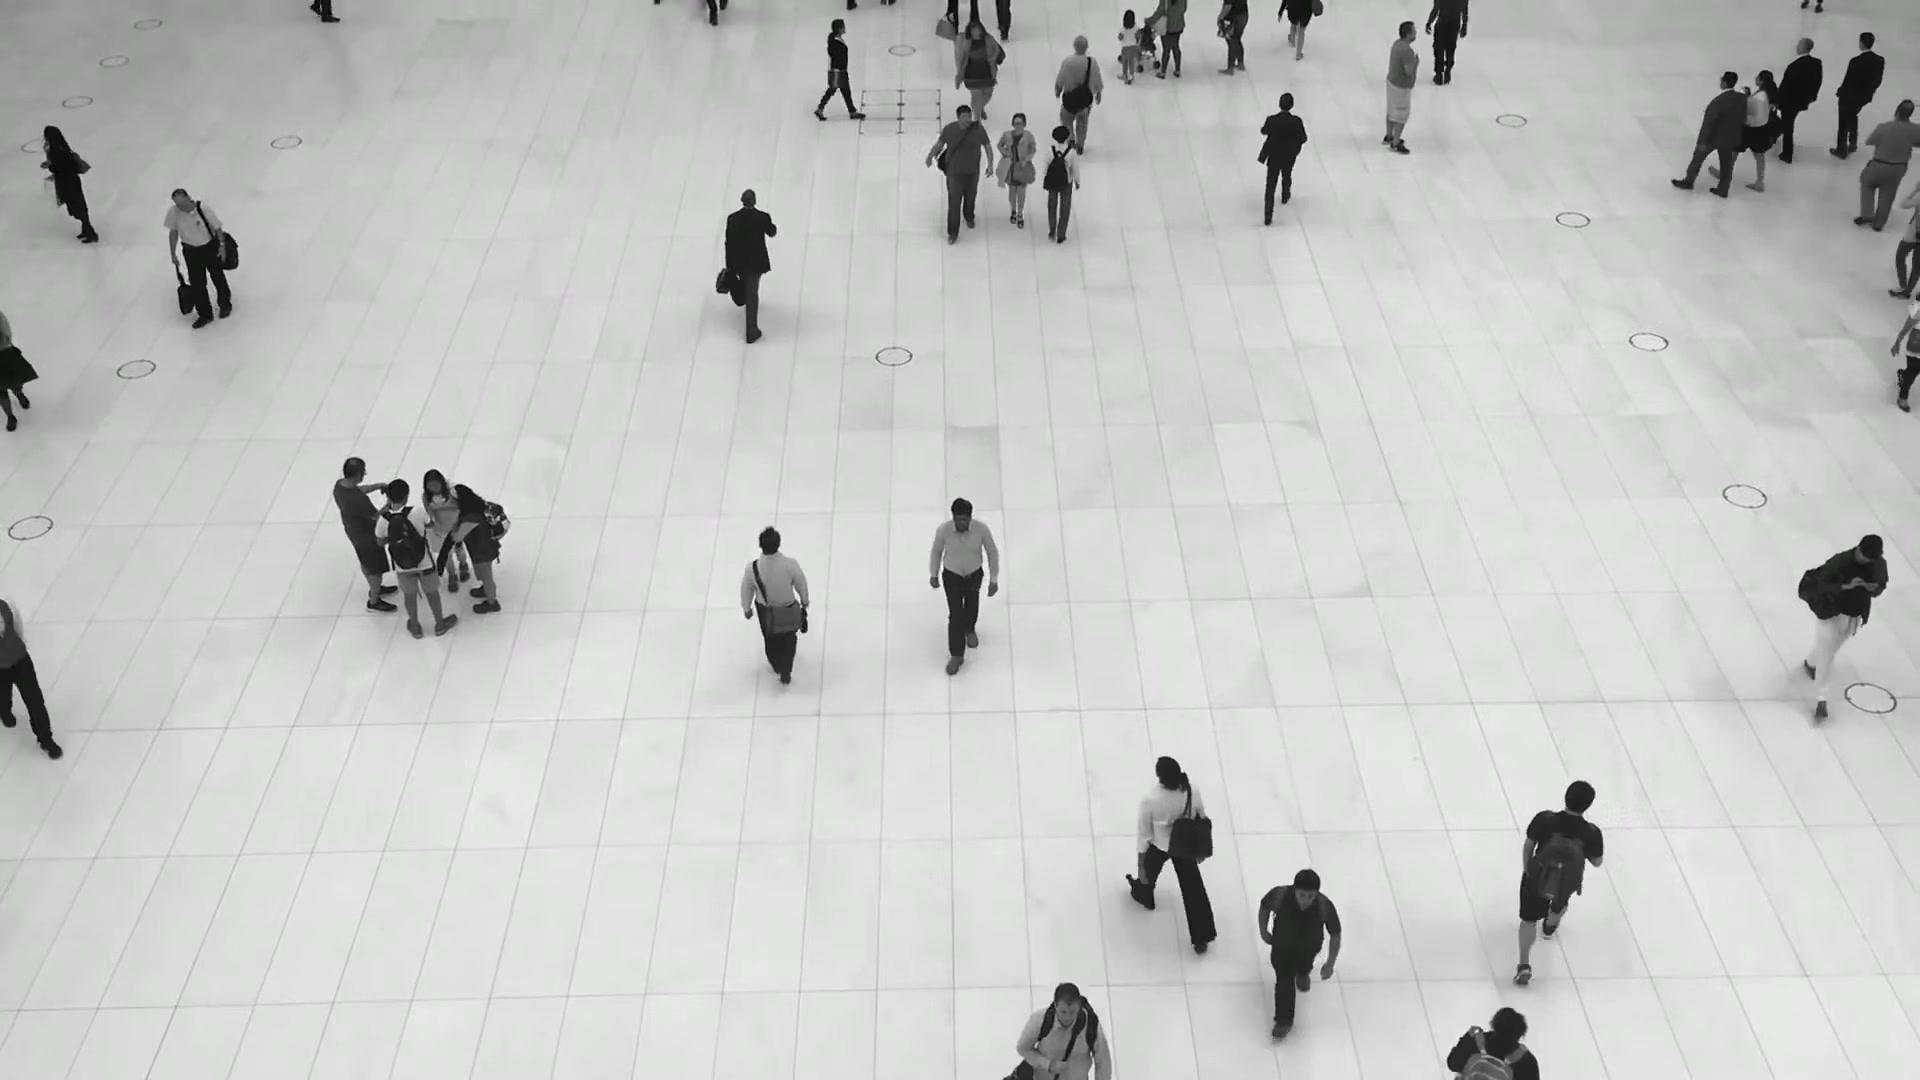person: (1514, 774, 1605, 966), (1795, 534, 1889, 714), (1126, 750, 1213, 937), (1257, 867, 1341, 1029), (926, 498, 1000, 678), (377, 477, 460, 635), (738, 526, 813, 695), (161, 190, 233, 332), (333, 457, 399, 610), (1849, 97, 1920, 232), (925, 104, 992, 242), (1674, 73, 1744, 202), (1014, 986, 1111, 1080), (722, 186, 778, 339), (1824, 33, 1884, 167), (40, 124, 99, 244), (1256, 88, 1309, 218), (449, 483, 501, 615), (1051, 36, 1102, 164), (420, 469, 469, 593), (1773, 35, 1822, 161), (1726, 68, 1774, 192), (1380, 20, 1420, 155), (1038, 128, 1079, 253), (996, 114, 1037, 234), (956, 19, 1000, 125), (821, 17, 860, 121), (1115, 9, 1140, 83)
